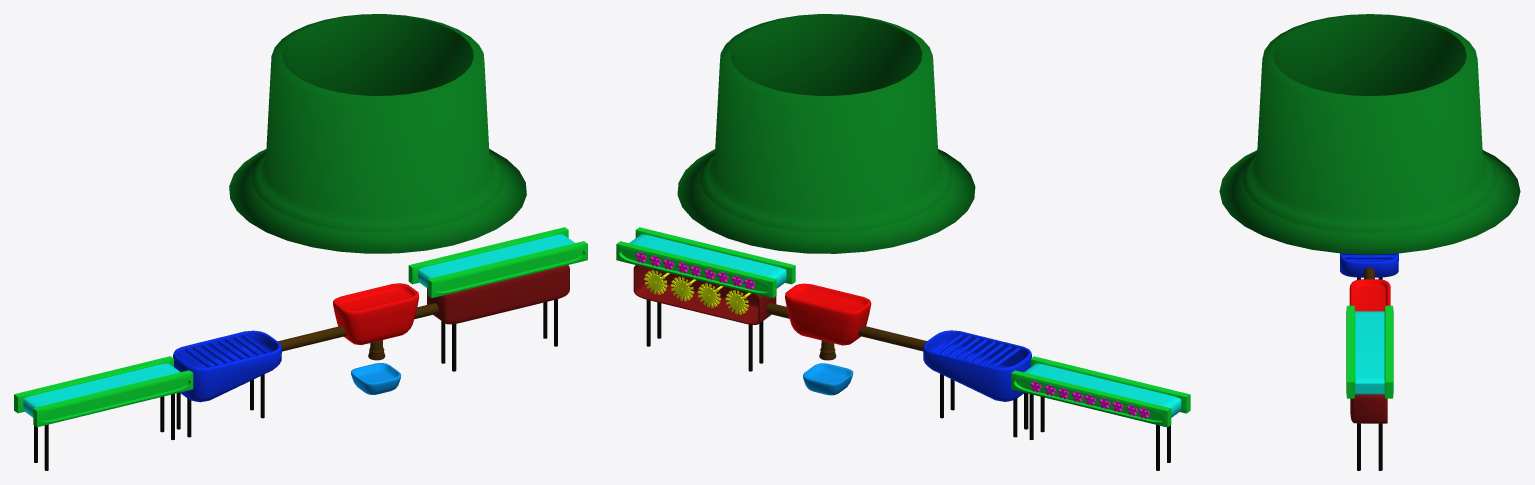
The model's file is Forge.FBX.
3 views of the same model, side by side, from view 1: azimuth 30°, elevation 25°; view 2: azimuth 150°, elevation 25°; view 3: azimuth 270°, elevation 25° (orthographic).
Parts seen in each view (by area): view 1: Cylinder025, Box008, Fan Box, Box005, Conveyer Side 003, Conveyer Side 2, Belt001, Belt, Object003, Box007, Conveyer Side, Conveyer Side001; view 2: Cylinder025, Box008, Box005, Fan Box, Conveyer Side, Conveyer Side001, Belt, Belt001, Object003, Box007, Conveyer Side 2, Conveyer Side 003; view 3: Cylinder025, Belt, Box008, Box005, Fan Box, Conveyer Side, Conveyer Side 2.
Part boxes in pixels (box(x1,y1,x2,y2)): Cylinder025: box(229, 14, 526, 253); Box008: box(173, 330, 281, 402); Fan Box: box(427, 265, 569, 324); Box005: box(333, 283, 419, 345); Conveyer Side 003: box(33, 370, 193, 427); Conveyer Side 2: box(427, 241, 587, 298); Belt001: box(23, 363, 180, 417); Belt: box(417, 234, 574, 288); Object003: box(278, 303, 438, 360); Box007: box(351, 363, 401, 394); Conveyer Side: box(408, 227, 568, 284); Conveyer Side001: box(14, 356, 173, 413); Cylinder025: box(677, 14, 975, 253); Box008: box(923, 330, 1031, 401); Box005: box(785, 283, 871, 345); Fan Box: box(633, 265, 776, 324); Conveyer Side: box(616, 241, 776, 298); Conveyer Side001: box(1011, 370, 1171, 427); Belt: box(629, 234, 786, 288); Belt001: box(1024, 363, 1181, 417); Object003: box(766, 303, 926, 360); Box007: box(803, 363, 853, 395); Conveyer Side 2: box(635, 227, 795, 284); Conveyer Side 003: box(1030, 356, 1190, 413); Cylinder025: box(1219, 14, 1520, 254); Belt: box(1355, 311, 1384, 394); Box008: box(1340, 253, 1398, 277); Box005: box(1349, 279, 1390, 311); Fan Box: box(1350, 394, 1387, 423); Conveyer Side: box(1384, 305, 1393, 398); Conveyer Side 2: box(1346, 305, 1355, 398).
Bounding box in the file's own units: 277 × 160 × 131.
